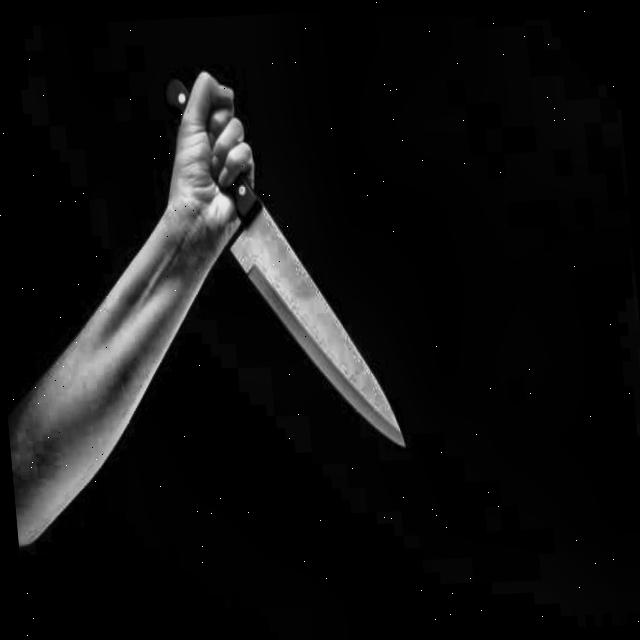pisau: (158, 42, 409, 476)
